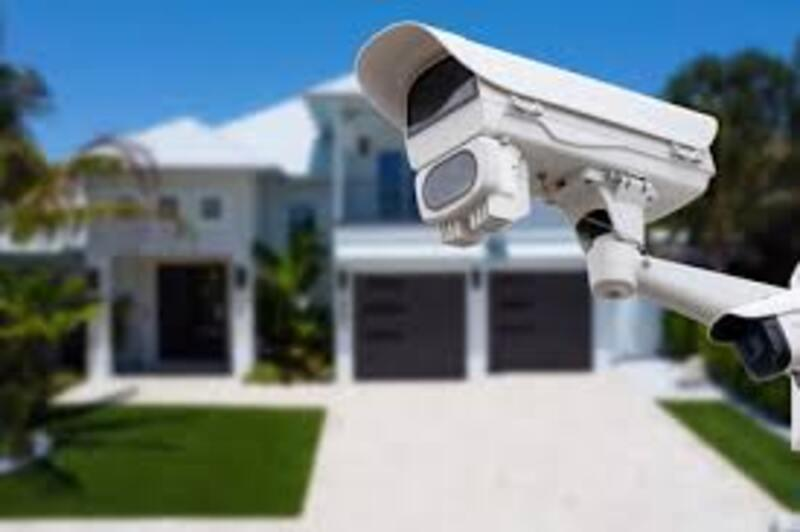box: (401, 0, 737, 184)
